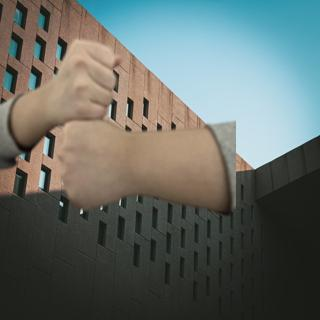CAREFUL: (19, 38, 217, 211)
